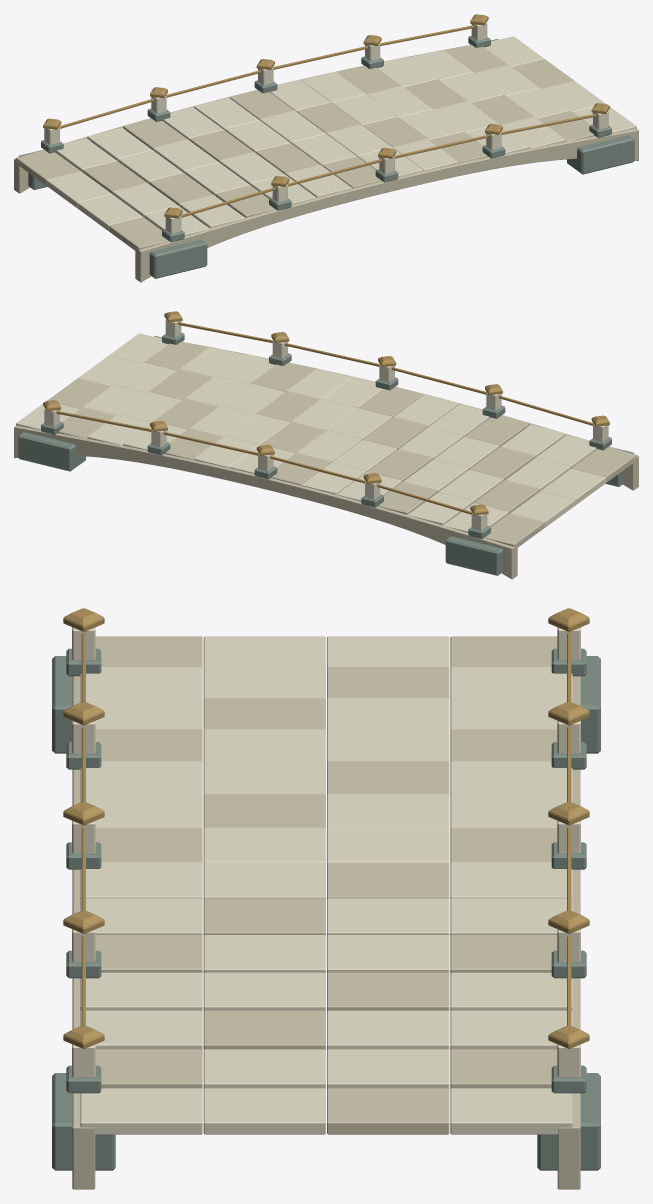
Rendered from bridge.glb.
3 renders of one model, top to bottom at view 1: azimuth 30°, elevation 25°; view 2: azimuth 150°, elevation 25°; view 3: azimuth 270°, elevation 25°, orthographic. The views are drawn at different scales.
Parts seen in each view (by area): view 1: bridge / mesh; view 2: bridge / mesh; view 3: bridge / mesh.
Boxes of the visible parts, <box> form: bridge / mesh: <box>14,14,638,282</box>; bridge / mesh: <box>14,311,638,579</box>; bridge / mesh: <box>52,608,600,1189</box>.
Bounding box in the file's own units: 28 × 3.77 × 13.35.
